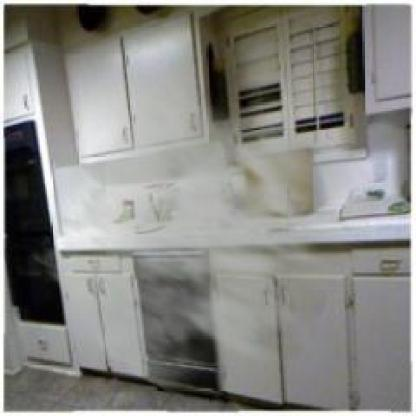Smoke: (29, 75, 390, 409)
